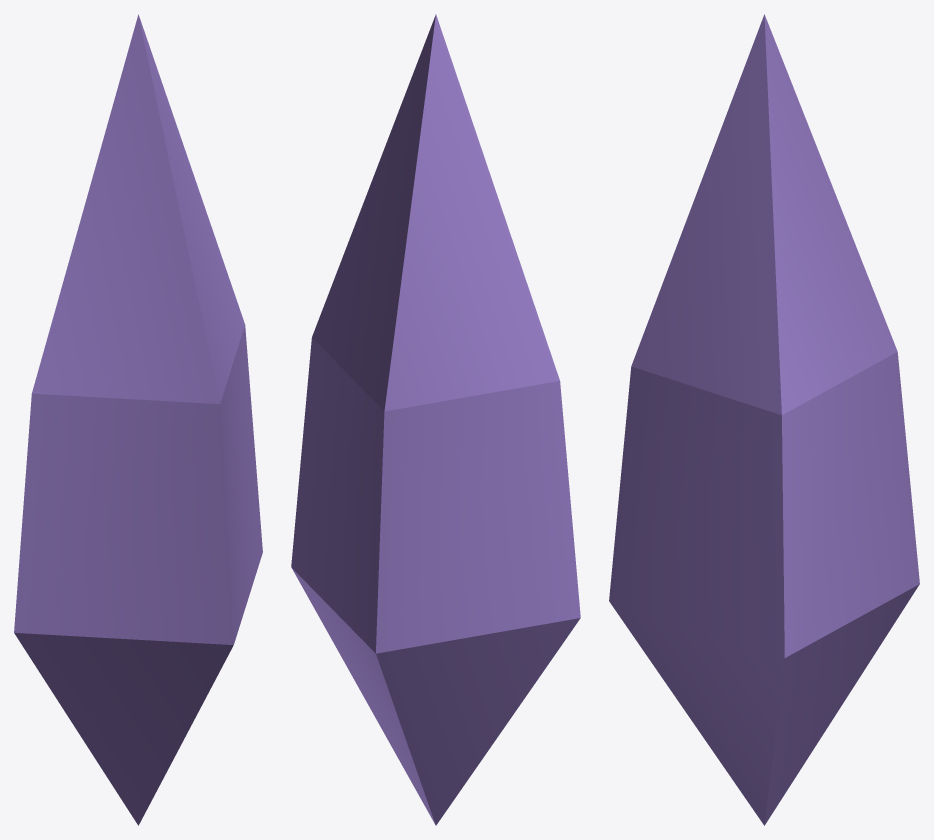
File: 2065_CrystalProjection_Projectile.fbx
The picture shows the model from 3 angles, left to right: view 1: azimuth 30°, elevation 25°; view 2: azimuth 150°, elevation 25°; view 3: azimuth 270°, elevation 25°; orthographic projection.
Parts seen in each view (by area): view 1: PART_ElectroProjectileCrystal; view 2: PART_ElectroProjectileCrystal; view 3: PART_ElectroProjectileCrystal.
Part boxes in pixels (box(x1,y1,x2,y2)): PART_ElectroProjectileCrystal: box(14, 14, 262, 825); PART_ElectroProjectileCrystal: box(291, 14, 580, 825); PART_ElectroProjectileCrystal: box(609, 14, 919, 825).
Bounding box in the file's own units: 27.76 × 80 × 27.76.
